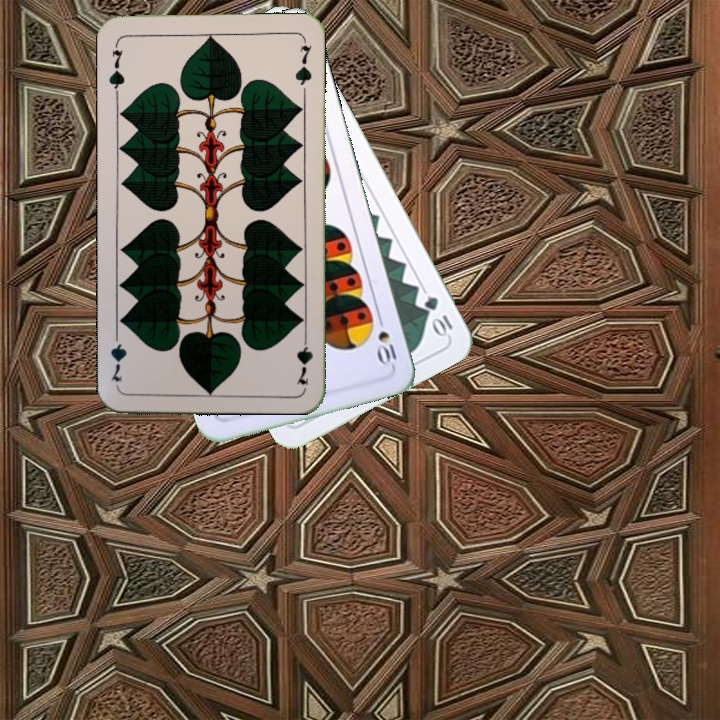G10: (420, 292, 456, 341)
G7: (293, 328, 315, 387), (105, 39, 127, 98)
S10: (373, 310, 399, 369)
